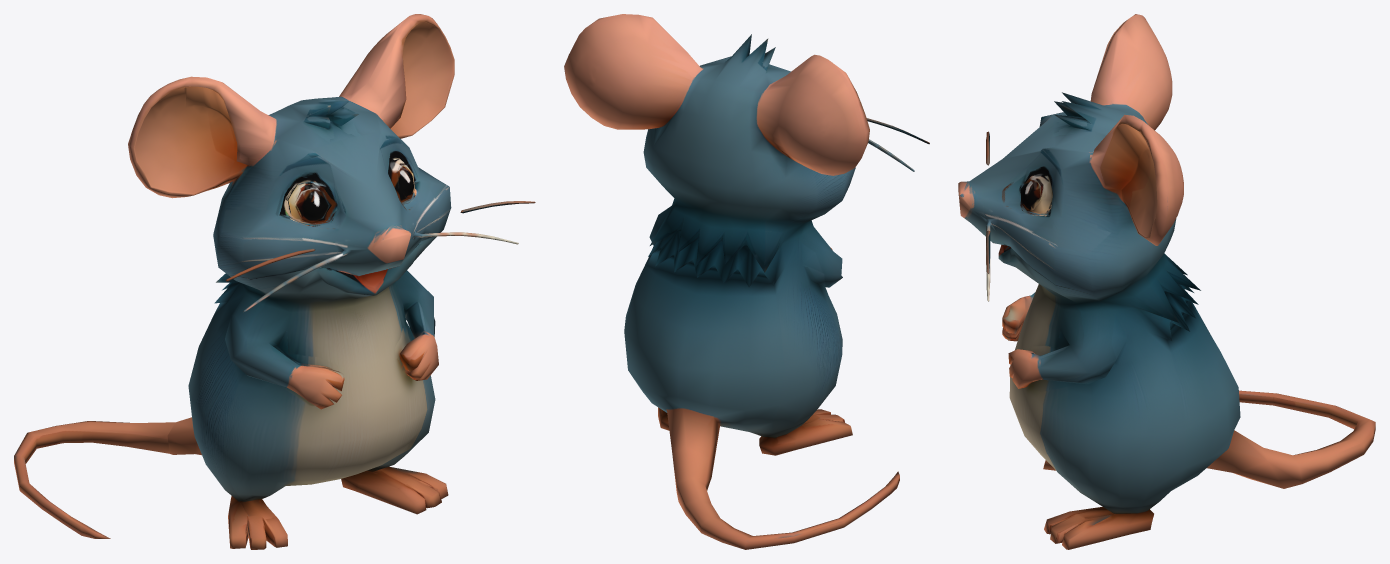
The model's file is 20260126192410_7afee25f.fbx.
3 views of the same model, side by side, from view 1: azimuth 30°, elevation 25°; view 2: azimuth 150°, elevation 25°; view 3: azimuth 270°, elevation 25° (orthographic). The views are drawn at different scales.
Parts seen in each view (by area): view 1: material; view 2: material; view 3: material.
Part boxes in pixels (x1,y1,x2,y2): material: [14, 14, 535, 549]; material: [564, 14, 929, 549]; material: [958, 14, 1375, 549].
Bounding box in the file's own units: 72.42 × 83.03 × 72.85.
1 material, 1 textured.
